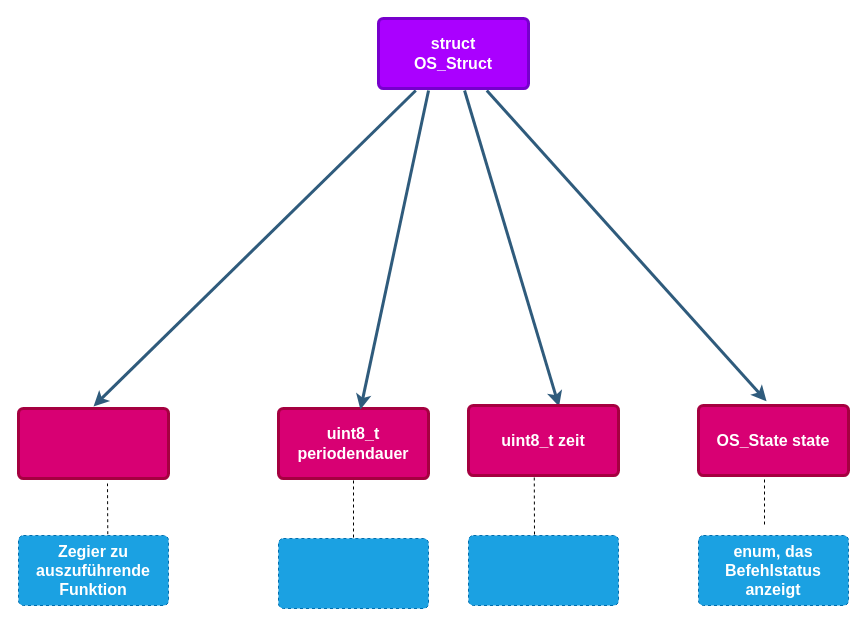
Image size: 867x626. Some labels were removed from this diagram. Each missing label, with the box of its shape:
fncPtr function: (16, 406, 170, 480)
Periodendauer der Funktion: (278, 538, 428, 608)
Zähler: (468, 534, 618, 606)
